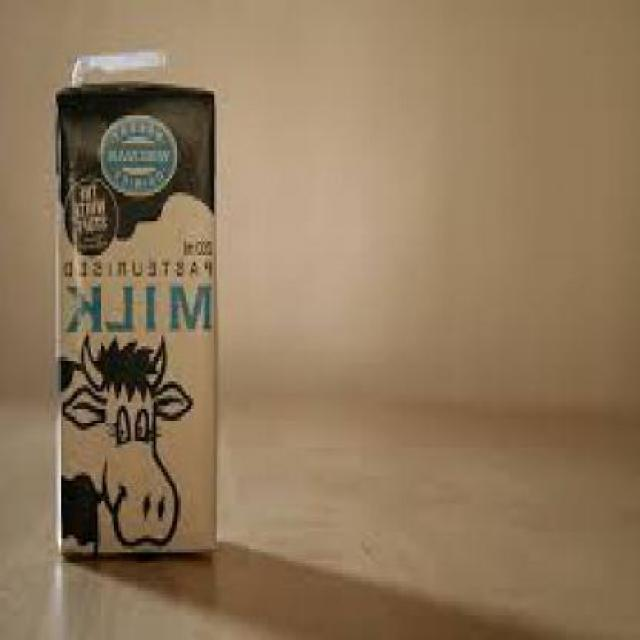box: (57, 85, 220, 557)
